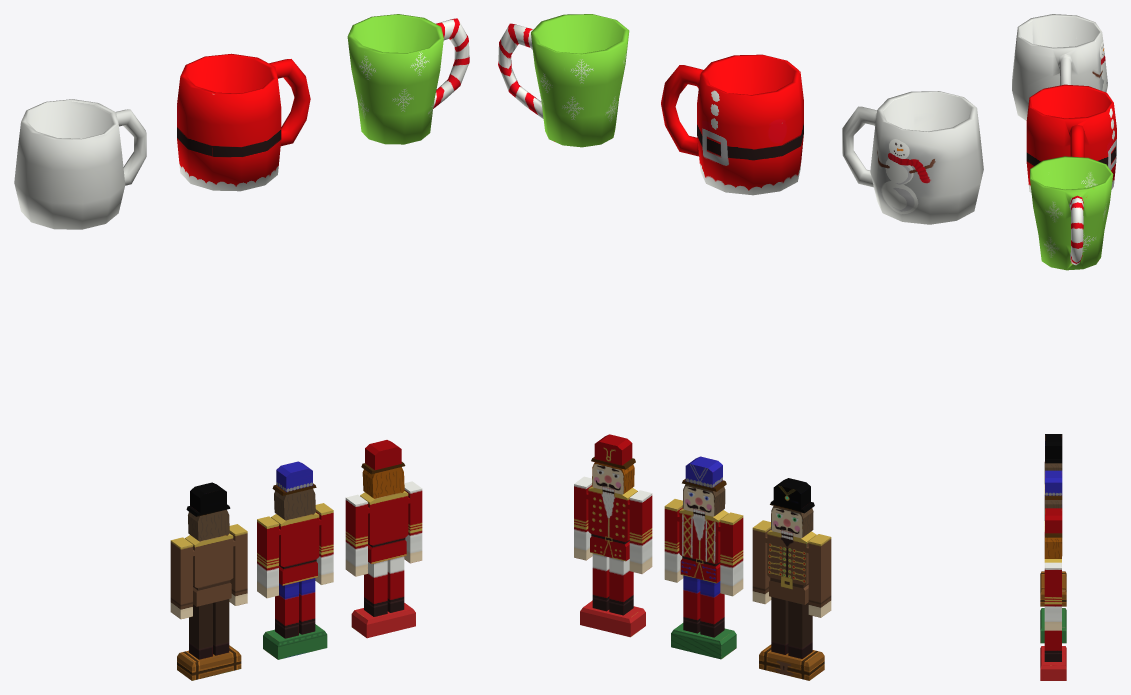
The model's file is Mugs & Nutcrackers.fbx.
3 renders of one model, left to right at view 1: azimuth 30°, elevation 25°; view 2: azimuth 150°, elevation 25°; view 3: azimuth 270°, elevation 25°, orthographic. The views are drawn at different scales.
Visible parts, largest first — view 1: Mug 1, Mug 2, Mug 3, Nutcracker 1, Nutcracker 3, Nutcracker 2; view 2: Mug 1, Mug 2, Mug 3, Nutcracker 3, Nutcracker 2, Nutcracker 1; view 3: Mug 3, Mug 2, Mug 1, Nutcracker 1, Nutcracker 2, Nutcracker 3.
Boxes of the visible parts, <box> form: Mug 1: <box>177,53,310,191</box>; Mug 2: <box>14,99,146,229</box>; Mug 3: <box>347,14,469,144</box>; Nutcracker 1: <box>345,440,422,638</box>; Nutcracker 3: <box>170,482,247,680</box>; Nutcracker 2: <box>257,461,333,659</box>; Mug 1: <box>661,54,803,195</box>; Mug 2: <box>842,91,983,224</box>; Mug 3: <box>498,14,629,147</box>; Nutcracker 3: <box>752,478,831,680</box>; Nutcracker 2: <box>664,456,743,659</box>; Nutcracker 1: <box>574,434,652,637</box>; Mug 3: <box>1030,156,1113,270</box>; Mug 2: <box>1012,14,1107,120</box>; Mug 1: <box>1026,84,1116,192</box>; Nutcracker 1: <box>1040,508,1066,680</box>; Nutcracker 2: <box>1040,470,1066,643</box>; Nutcracker 3: <box>1040,434,1066,606</box>.
Size of the model in its own units: 7.64 by 9.26 by 1.74.
